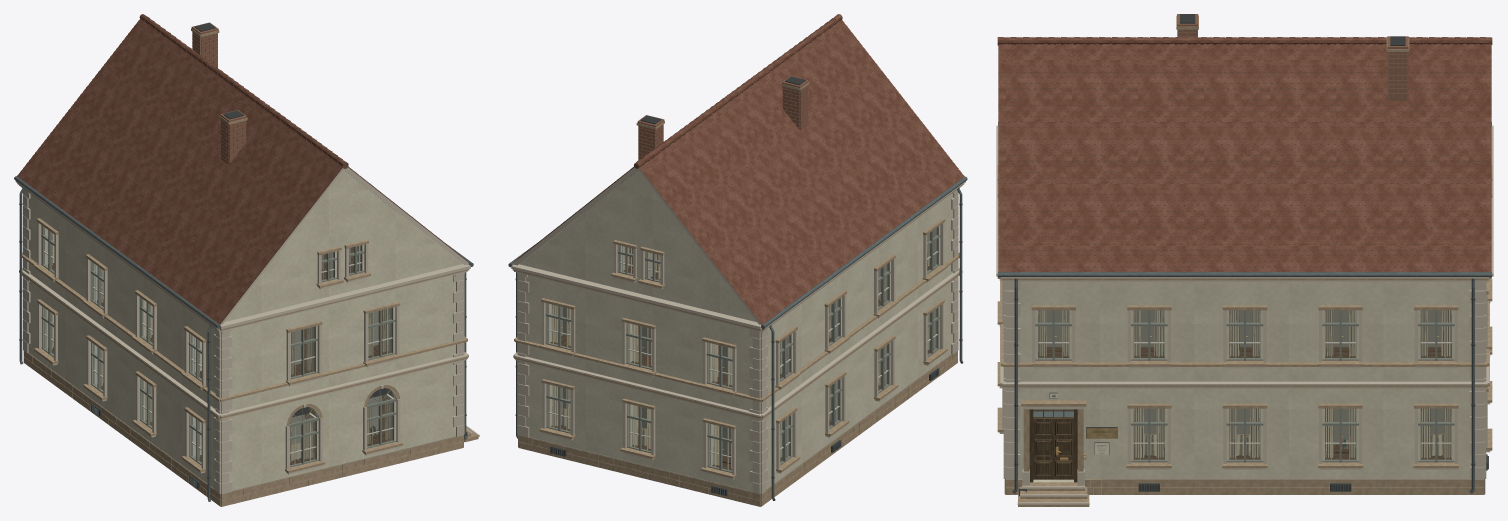
The model's file is steinr32.glb.
The picture shows the model from 3 angles, left to right: view 1: azimuth 30°, elevation 25°; view 2: azimuth 150°, elevation 25°; view 3: azimuth 270°, elevation 25°; orthographic projection. The views are drawn at different scales.
Visible parts, largest first — view 1: Fassaden_Kalk, Biberschwanzdeckung_Dachton0, Giebel_Kalk, Obergeschoss_Kalk, Fassaden_Gesims, Biberschwanzdeckung_Dachton3, Biberschwanzdeckung_Dachton1, Biberschwanzdeckung_Dachton4, Biberschwanzdeckung_Dachschatten, Obergeschoss_Gesims, Sockel_Werkstein, Fassaden_Werkstein (+13 smaller); view 2: Biberschwanzdeckung_Dachton0, Obergeschoss_Kalk, Fassaden_Kalk, Obergeschoss_Gesims, Giebel_Kalk, Biberschwanzdeckung_Dachton3, Biberschwanzdeckung_Dachton4, Biberschwanzdeckung_Dachton1, Biberschwanzdeckung_Dachschatten, Sockel_Werkstein, Obergeschoss_Werkstein, Biberschwanzdeckung_Dachton2 (+14 smaller); view 3: Biberschwanzdeckung_Dachton0, Obergeschoss_Kalk, Fassaden_Kalk, Biberschwanzdeckung_Dachton3, Biberschwanzdeckung_Dachton1, Biberschwanzdeckung_Dachton4, Obergeschoss_Gesims, Biberschwanzdeckung_Dachschatten, Biberschwanzdeckung_Dachton2, Obergeschoss_Werkstein, Sockel_Werkstein, Dachentwaesserung_Blech (+17 smaller).
Boxes of the visible parts, <box> form: Fassaden_Kalk: <box>28,275,455,490</box>; Biberschwanzdeckung_Dachton0: <box>17,14,464,324</box>; Giebel_Kalk: <box>225,170,462,321</box>; Obergeschoss_Kalk: <box>28,194,215,409</box>; Fassaden_Gesims: <box>36,264,470,494</box>; Biberschwanzdeckung_Dachton3: <box>32,21,449,320</box>; Biberschwanzdeckung_Dachton1: <box>21,23,456,317</box>; Biberschwanzdeckung_Dachton4: <box>24,18,461,318</box>; Biberschwanzdeckung_Dachschatten: <box>20,20,466,324</box>; Obergeschoss_Gesims: <box>15,181,468,493</box>; Sockel_Werkstein: <box>23,351,463,506</box>; Fassaden_Werkstein: <box>34,269,469,473</box>; Biberschwanzdeckung_Dachton0: <box>515,14,964,324</box>; Obergeschoss_Kalk: <box>526,193,952,410</box>; Fassaden_Kalk: <box>526,280,952,491</box>; Obergeschoss_Gesims: <box>511,181,965,494</box>; Giebel_Kalk: <box>519,170,756,321</box>; Biberschwanzdeckung_Dachton3: <box>517,22,961,310</box>; Biberschwanzdeckung_Dachton4: <box>514,24,956,317</box>; Biberschwanzdeckung_Dachton1: <box>537,20,957,319</box>; Biberschwanzdeckung_Dachschatten: <box>513,22,960,324</box>; Sockel_Werkstein: <box>518,351,957,506</box>; Obergeschoss_Werkstein: <box>512,184,963,418</box>; Biberschwanzdeckung_Dachton2: <box>534,25,950,322</box>; Biberschwanzdeckung_Dachton0: <box>997,37,1492,271</box>; Obergeschoss_Kalk: <box>1018,281,1471,381</box>; Fassaden_Kalk: <box>1013,389,1471,494</box>; Biberschwanzdeckung_Dachton3: <box>998,43,1491,271</box>; Biberschwanzdeckung_Dachton1: <box>998,43,1491,271</box>; Biberschwanzdeckung_Dachton4: <box>998,43,1491,271</box>; Obergeschoss_Gesims: <box>1000,125,1493,479</box>; Biberschwanzdeckung_Dachschatten: <box>998,44,1491,267</box>; Biberschwanzdeckung_Dachton2: <box>1001,43,1491,271</box>; Obergeschoss_Werkstein: <box>1001,277,1492,387</box>; Sockel_Werkstein: <box>1004,479,1485,494</box>; Dachentwaesserung_Blech: <box>998,122,1491,493</box>.
Size of the model in its own units: 12.19 by 13.91 by 15.81.
Materials: 31 (13 with a texture image).
